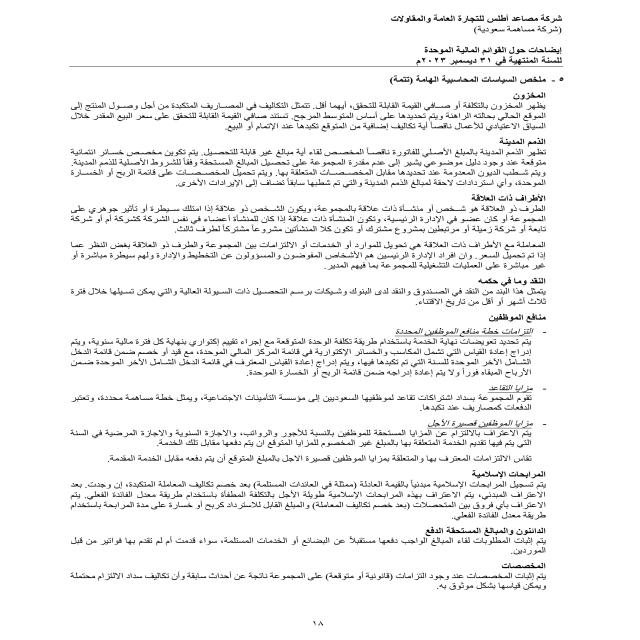notes: (399, 44, 568, 53)
text: (46, 63, 570, 600)
